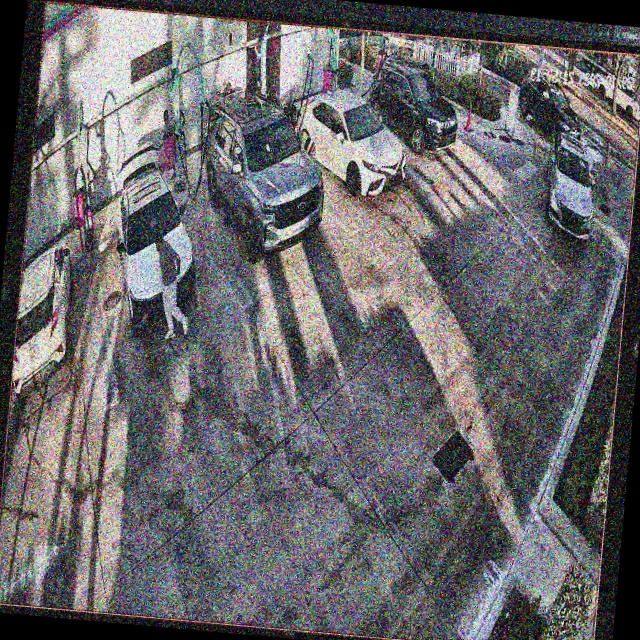Car: (195, 90, 331, 270), (108, 144, 203, 336), (289, 84, 415, 200), (368, 62, 463, 154)
